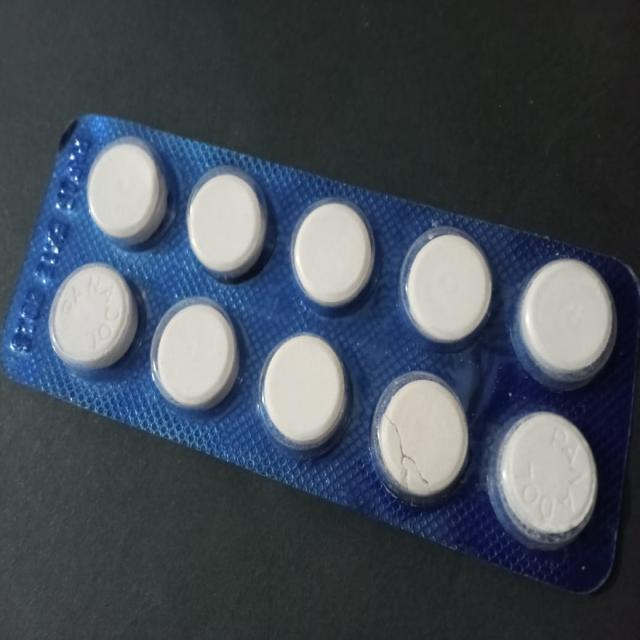defect: (370, 368, 473, 507)
